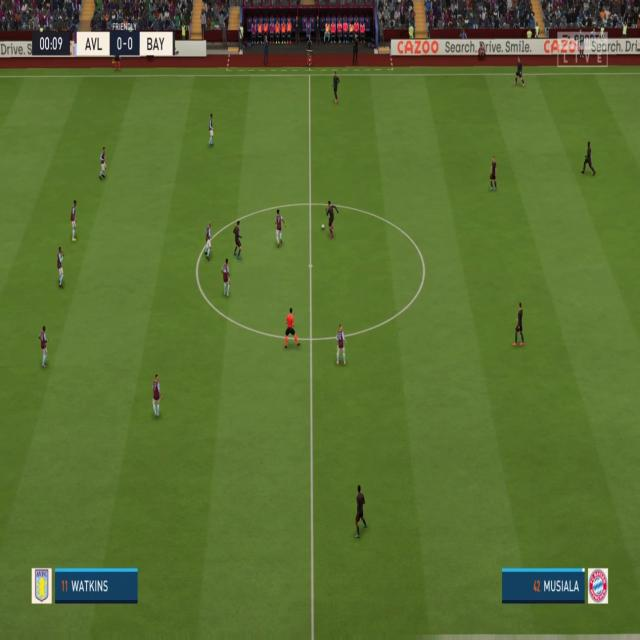Ball: (321, 224, 325, 230)
Referee: (284, 307, 301, 349)
Team-A: (355, 484, 368, 538), (512, 301, 525, 347), (325, 200, 339, 239), (581, 142, 596, 178), (232, 220, 243, 260), (488, 156, 499, 192), (514, 58, 526, 88), (332, 71, 340, 104)
Team-H: (274, 209, 287, 249), (152, 374, 163, 420), (39, 326, 50, 370), (220, 259, 232, 298), (336, 324, 347, 366), (56, 246, 66, 290), (203, 220, 213, 262), (70, 200, 78, 242), (99, 146, 107, 182), (207, 113, 214, 148)
